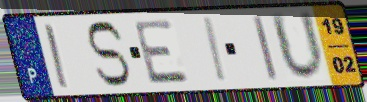E: (130, 18, 192, 87)
I: (41, 22, 73, 90), (250, 13, 280, 83), (202, 15, 230, 85)
S: (84, 19, 133, 89)
U: (267, 9, 328, 84)
